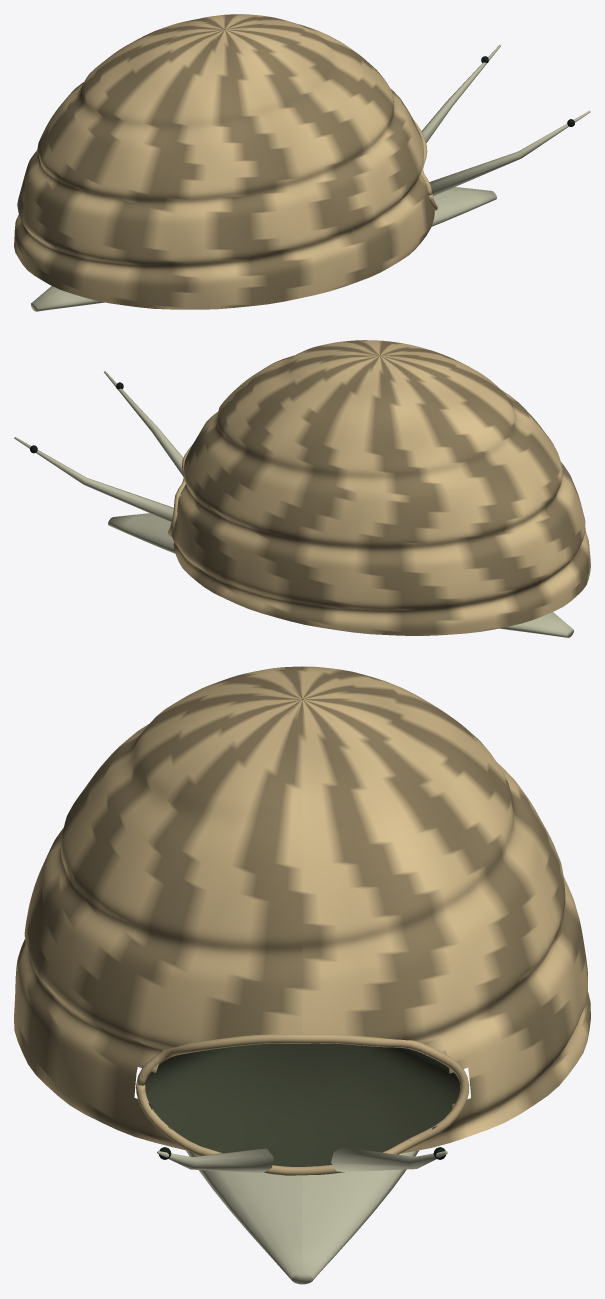
The model's file is nerite-desktop.glb.
The picture shows the model from 3 angles, top to bottom: view 1: azimuth 30°, elevation 25°; view 2: azimuth 150°, elevation 25°; view 3: azimuth 270°, elevation 25°; orthographic projection. The views are drawn at different scales.
Visible parts, largest first — view 1: connected-whorled-shell, muscular-foot, cephalic-tentacle; view 2: connected-whorled-shell, muscular-foot, cephalic-tentacle; view 3: connected-whorled-shell, recessed-aperture, muscular-foot, aperture-lip, cephalic-tentacle.
Part boxes in pixels (box(x1,y1,x2,y2)): connected-whorled-shell: box(14, 14, 434, 309); muscular-foot: box(31, 187, 496, 311); cephalic-tentacle: box(421, 45, 590, 196); connected-whorled-shell: box(171, 340, 590, 635); muscular-foot: box(108, 513, 573, 637); cephalic-tentacle: box(14, 371, 183, 521); connected-whorled-shell: box(14, 666, 590, 1153); recessed-aperture: box(145, 1043, 459, 1166); muscular-foot: box(162, 1048, 446, 1284); aperture-lip: box(136, 1034, 469, 1175); cephalic-tentacle: box(157, 1147, 447, 1172).
Size of the model in its own units: 0.5907 by 0.259 by 0.3607.
